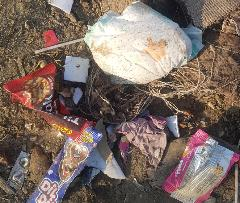general: (26, 120, 104, 202), (161, 128, 239, 202), (2, 62, 56, 110), (35, 36, 85, 56), (7, 150, 31, 189), (119, 136, 130, 166)
